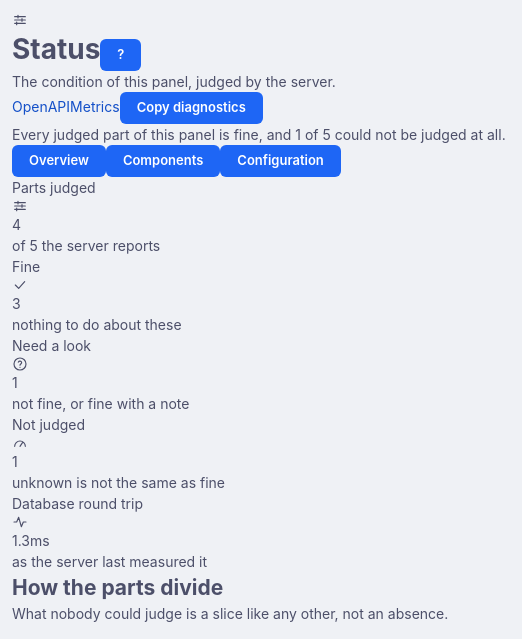
Test: the condition of the installation › copies the whole answer, and says copied only when the clipboard took it
This screenshot has width=522, height=639.
Click the button with test id "copy-diagnostics": [191, 108] box [120,92,263,124]
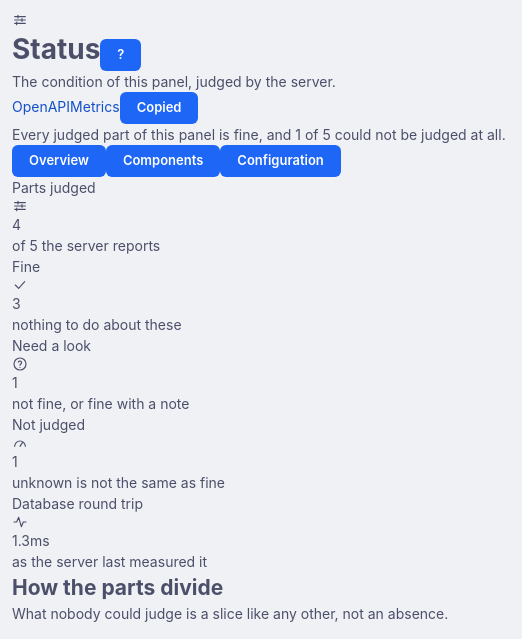
Expected: the button with test id "copy-diagnostics" reads "Copied", [120,92,198,124]
